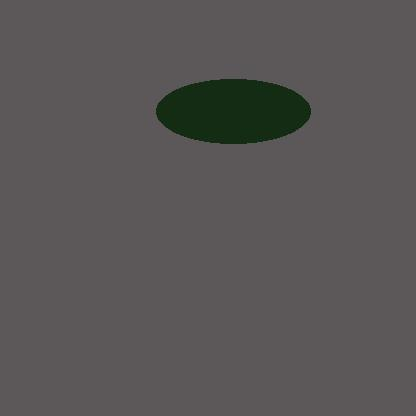pothole: (156, 79, 310, 143)
